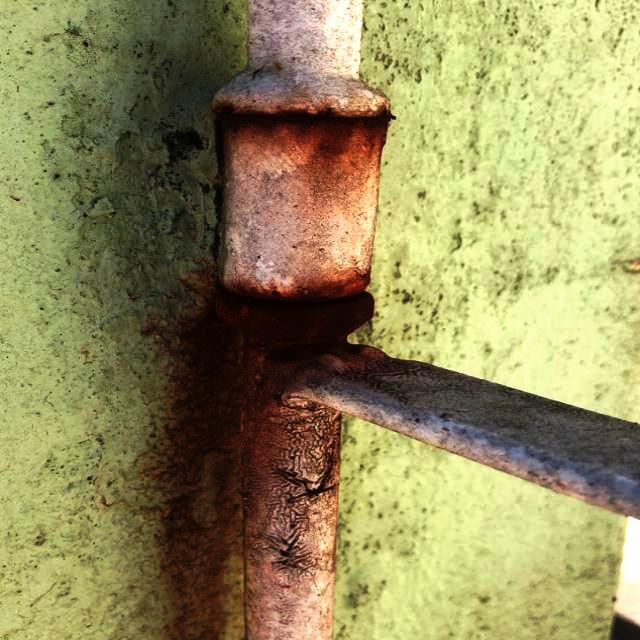Corrosion: (217, 289, 373, 346), (211, 86, 391, 120)
